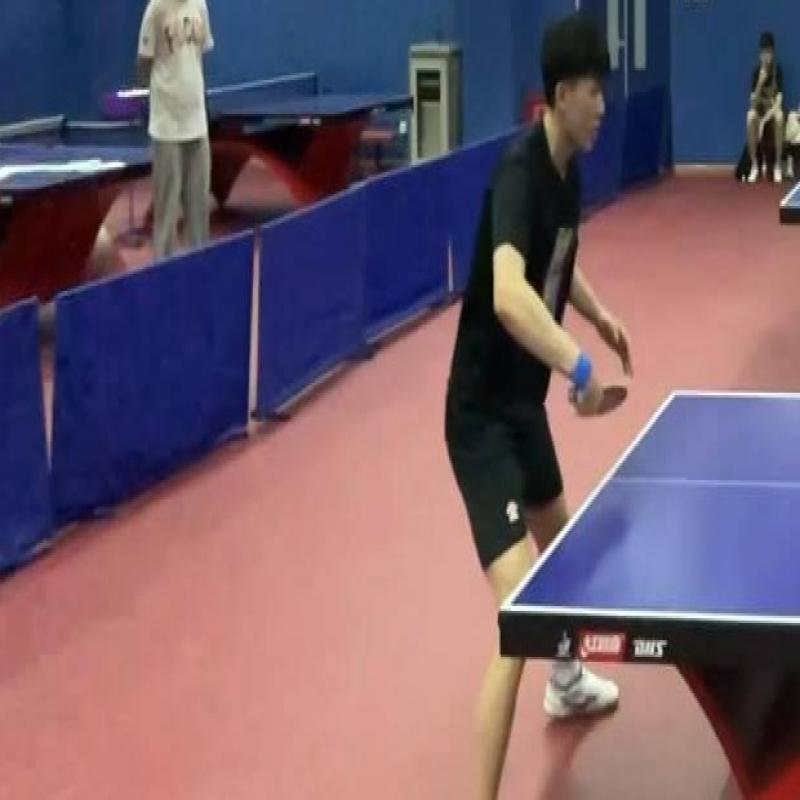bats: (562, 373, 635, 427)
